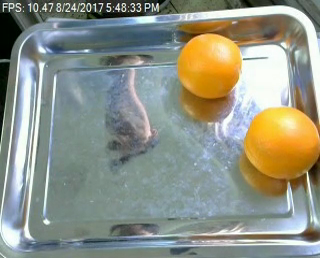Orange: (242, 107, 319, 180), (177, 33, 243, 99)
